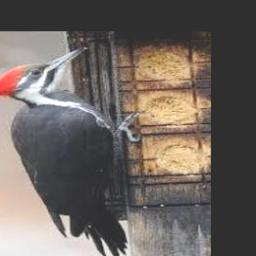Woodpecker: (0, 46, 142, 256)
